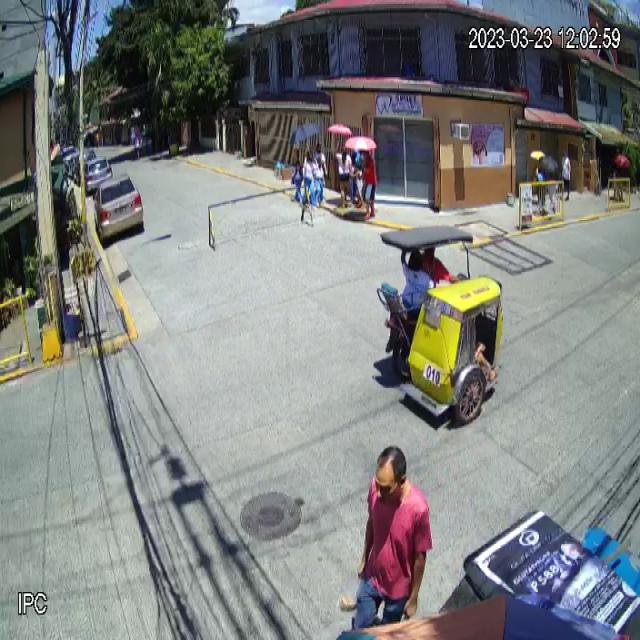Tricycle: (377, 224, 504, 421)
